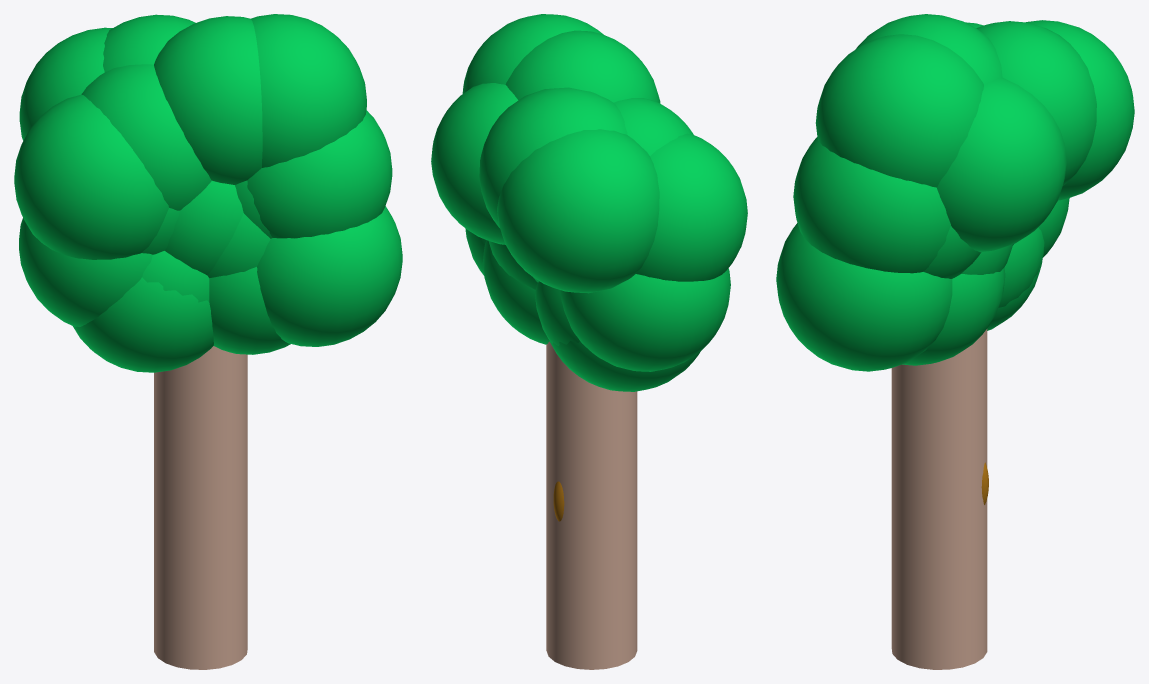
Rendered from SmallTree_v2.fbx.
3 renders of one model, left to right at view 1: azimuth 30°, elevation 25°; view 2: azimuth 150°, elevation 25°; view 3: azimuth 270°, elevation 25°, orthographic. The views are drawn at different scales.
Parts seen in each view (by area): view 1: Trunk; view 2: Trunk; view 3: Trunk.
Part boxes in pixels (bbox=[...]): Trunk: bbox=[14, 14, 402, 669]; Trunk: bbox=[431, 14, 747, 669]; Trunk: bbox=[776, 14, 1134, 669].
Size of the model in its own units: 523 by 984 by 501.
